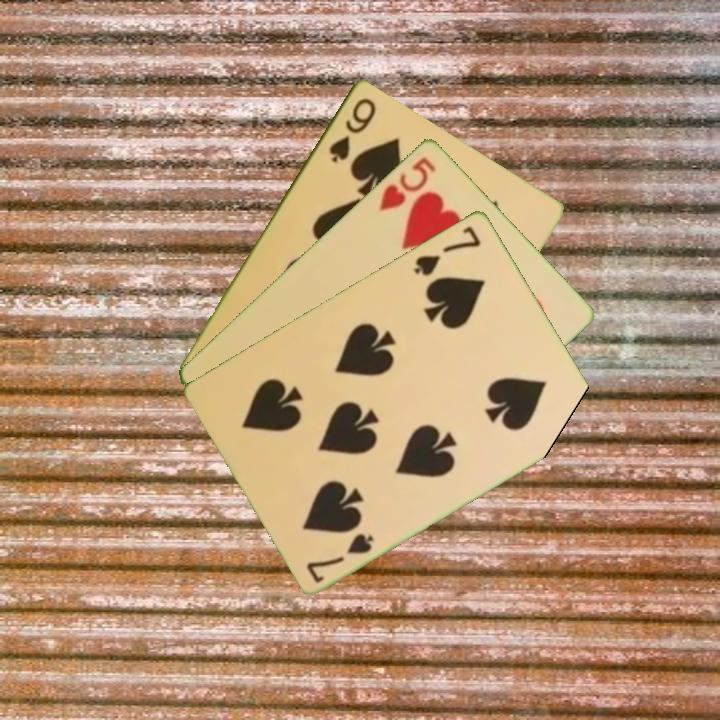5h: (376, 152, 439, 214)
7s: (303, 528, 378, 586), (410, 222, 484, 279)
9s: (325, 93, 379, 165)
